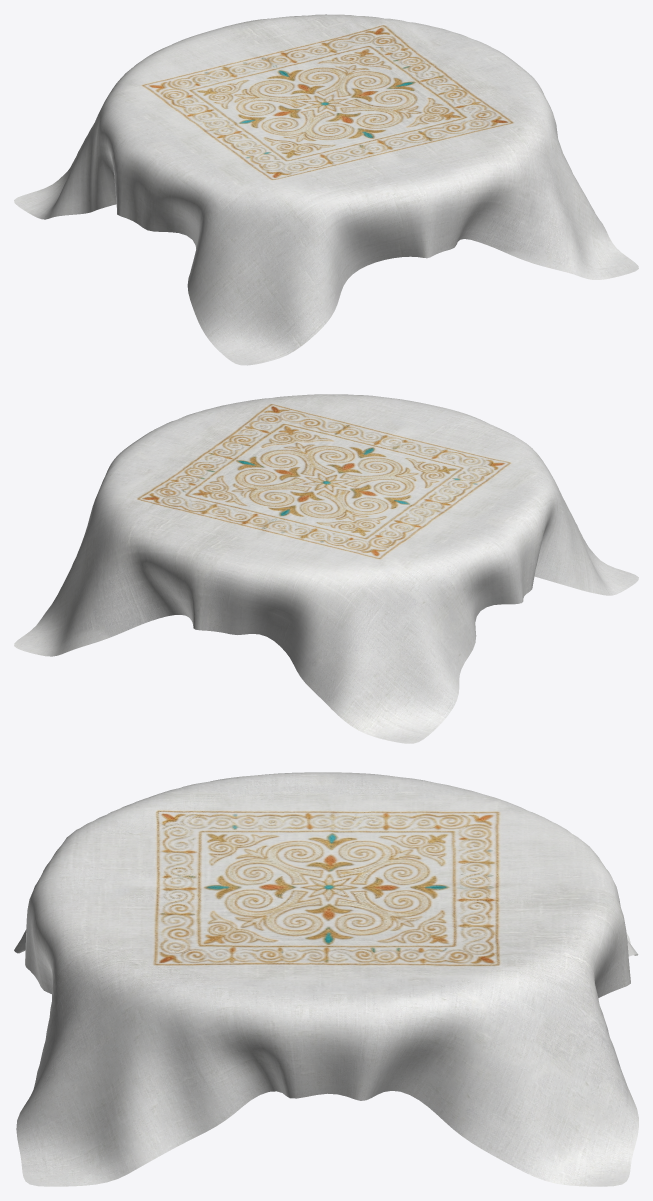
Rendered from Skatert.fbx.
3 renders of one model, top to bottom at view 1: azimuth 30°, elevation 25°; view 2: azimuth 150°, elevation 25°; view 3: azimuth 270°, elevation 25°, orthographic. The views are drawn at different scales.
Visible parts, largest first — view 1: Plane.001; view 2: Plane.001; view 3: Plane.001.
Boxes of the visible parts, x1,y1,x2,y2 form: Plane.001: (14,14,638,365); Plane.001: (14,394,638,743); Plane.001: (14,772,638,1186).
Size of the model in its own units: 173 by 53.41 by 176.
Materials: 1 (1 with a texture image).
